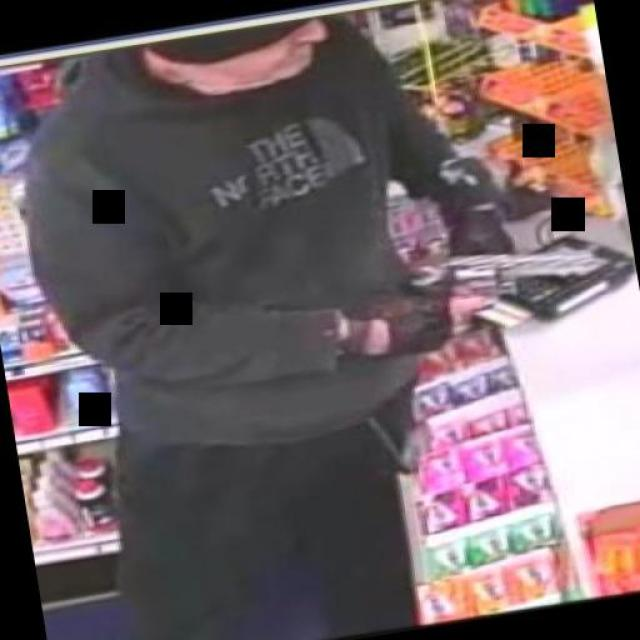gun: (400, 230, 610, 348)
